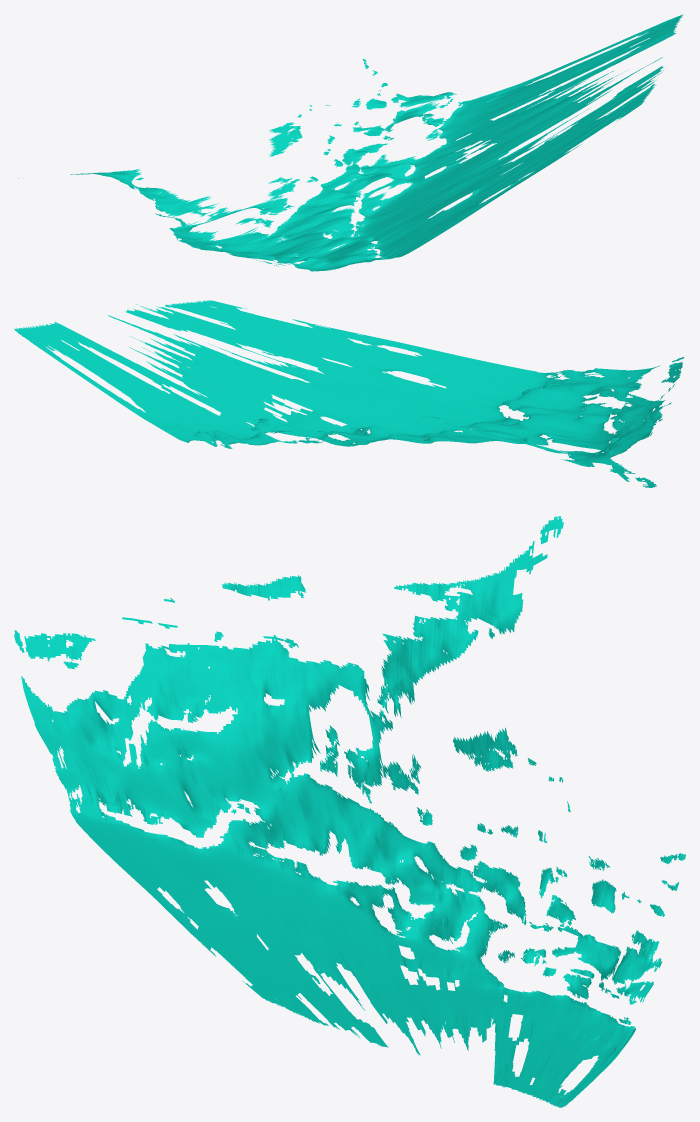
Rendered from walkable.glb.
3 renders of one model, top to bottom at view 1: azimuth 30°, elevation 25°; view 2: azimuth 150°, elevation 25°; view 3: azimuth 270°, elevation 25°, orthographic. The views are drawn at different scales.
Visible parts, largest first — view 1: geometry_0; view 2: geometry_0; view 3: geometry_0.
Boxes of the visible parts, left/top/right/bottom form: geometry_0: left=19, top=14, right=682, bottom=271; geometry_0: left=14, top=300, right=684, bottom=487; geometry_0: left=14, top=516, right=685, bottom=1107.
Size of the model in its own units: 29.94 by 2.96 by 14.33.
